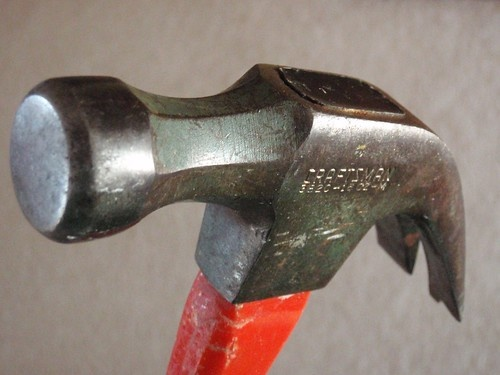hammer: (8, 61, 471, 373)
